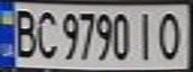0: (112, 9, 133, 62)
7: (75, 9, 96, 61)
9: (57, 8, 81, 60), (93, 9, 115, 61)
B: (9, 6, 39, 60)
C: (33, 7, 60, 61)
I: (133, 9, 160, 62)
O: (154, 8, 187, 62)
